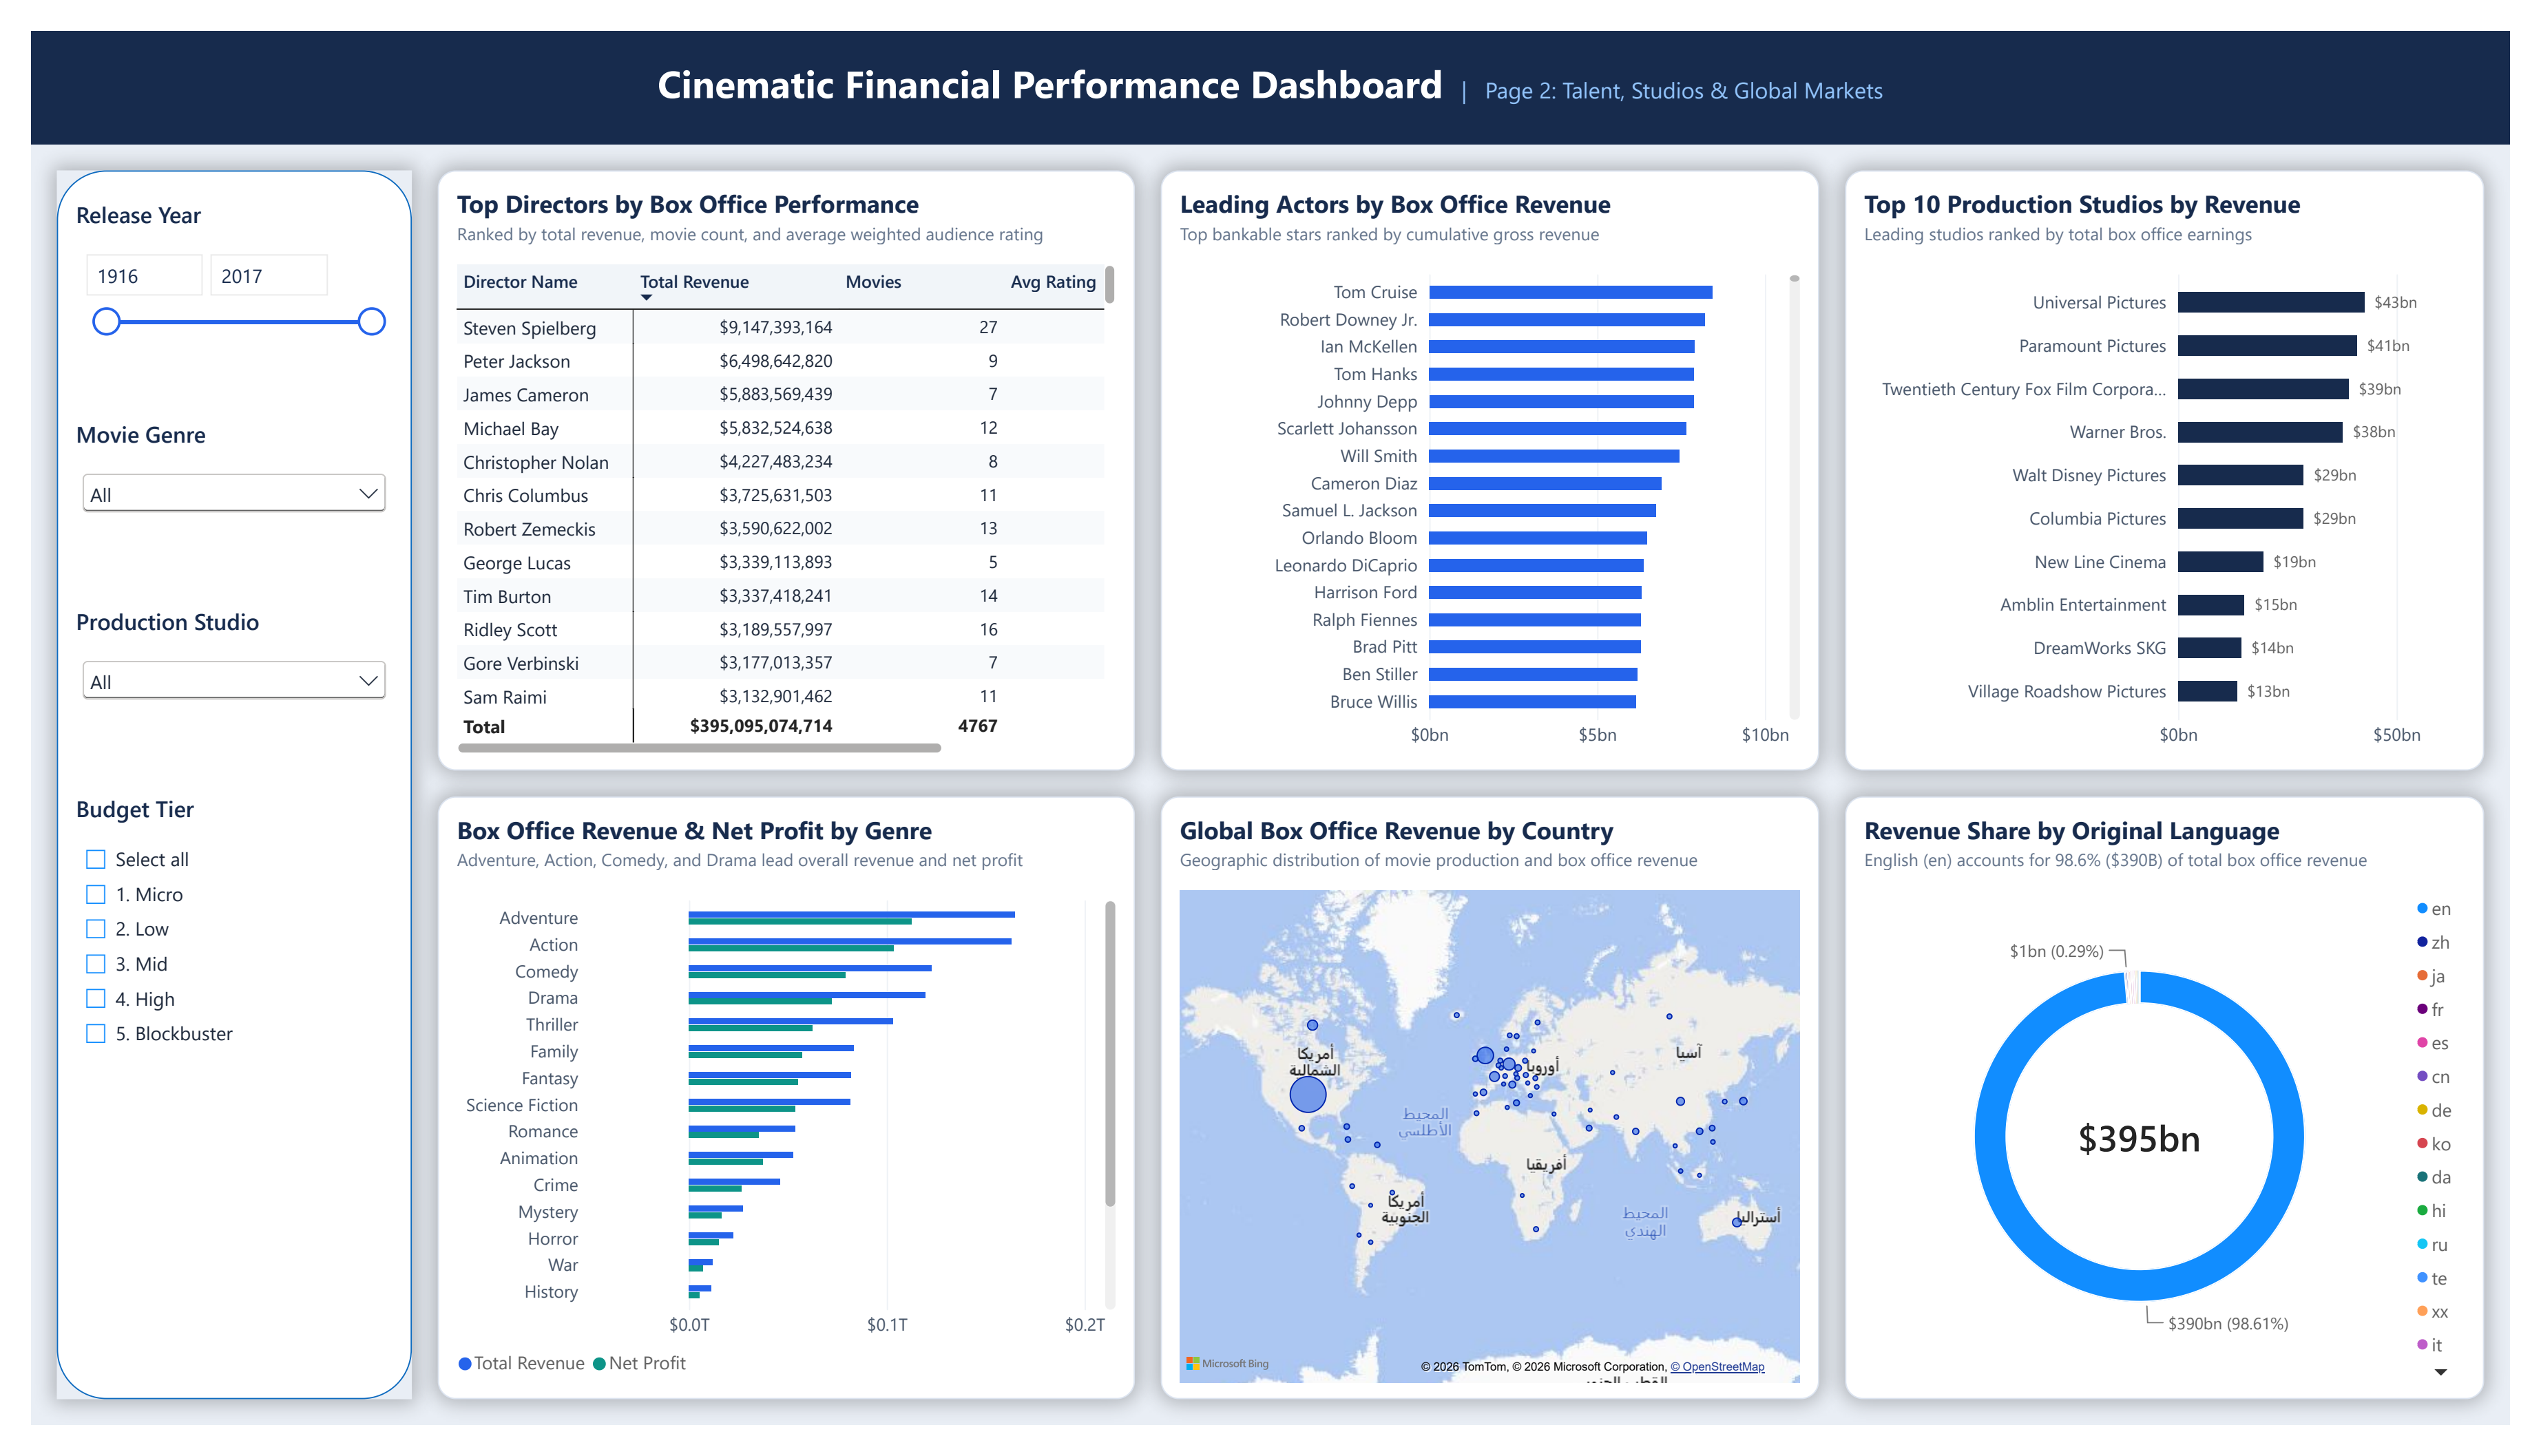

What the dashboard file says about the page in this screenshot:
{"tool":"powerbi","page":{"name":"2. Talent, Studios & Global Markets","canvas":[1920,1080],"ordinal":1},"visuals":[{"type":"shape","box":[0,0,1920,88],"z":0},{"type":"shape","box":[20,108,275,952],"z":1000},{"type":"textbox","box":[20,6,1880,80],"z":2000},{"type":"pivotTable","title":"Top Directors by Box Office Performance","fields":{"Rows":["movie_crew.member_name"],"Values":["_Measures.Total Revenue","_Measures.Total Movies","Avg(clean_movies.weighted_rating)"]},"box":[315,108,540,465],"z":3000},{"type":"clusteredBarChart","title":"Leading Actors by Box Office Revenue","fields":{"Category":["movie_cast.actor_name"],"Y":["_Measures.Total Revenue"]},"box":[875,108,510,465],"z":4000},{"type":"clusteredBarChart","title":"Top 10 Production Studios by Revenue","fields":{"Category":["movie_companies.company_name"],"Y":["_Measures.Total Revenue"]},"box":[1405,108,495,465],"z":5000},{"type":"clusteredBarChart","title":"Box Office Revenue & Net Profit by Genre","fields":{"Category":["movie_genres.genre_name"],"Y":["_Measures.Total Revenue","_Measures.Net Profit"]},"box":[315,593,540,467],"z":6000},{"type":"map","title":"Global Box Office Revenue by Country","fields":{"Category":["movie_countries.country_name"],"Size":["_Measures.Total Revenue"]},"box":[875,593,510,467],"z":7000},{"type":"donutChart","title":"Revenue Share by Original Language","fields":{"Category":["clean_movies.original_language"],"Y":["_Measures.Total Revenue"]},"box":[1405,593,495,467],"z":8000},{"type":"slicer","title":"Budget Tier","fields":{"Values":["clean_movies.Budget Tier"]},"box":[35,590,245,290],"z":9000},{"type":"slicer","title":"Production Studio","fields":{"Values":["movie_companies.company_name"]},"box":[35,445,245,120],"z":10000},{"type":"slicer","title":"Movie Genre","fields":{"Values":["movie_genres.genre_name"]},"box":[35,300,245,120],"z":11000},{"type":"slicer","title":"Release Year","fields":{"Values":["clean_movies.release_year"]},"box":[35,130,245,145],"z":12000}]}

Visuals, with their boxes in screenshot pixels (x1, y1, x2, y2), scaled from the page's 1920x1080 canvas onto the 2541x1456 screenshot:
shape: [left=0, top=0, right=2540, bottom=118]
shape: [left=26, top=146, right=390, bottom=1429]
textbox: [left=26, top=8, right=2515, bottom=116]
"Top Directors by Box Office Performance" pivotTable: [left=417, top=146, right=1131, bottom=772]
"Leading Actors by Box Office Revenue" clusteredBarChart: [left=1158, top=146, right=1833, bottom=772]
"Top 10 Production Studios by Revenue" clusteredBarChart: [left=1859, top=146, right=2515, bottom=772]
"Box Office Revenue & Net Profit by Genre" clusteredBarChart: [left=417, top=799, right=1131, bottom=1429]
"Global Box Office Revenue by Country" map: [left=1158, top=799, right=1833, bottom=1429]
"Revenue Share by Original Language" donutChart: [left=1859, top=799, right=2515, bottom=1429]
"Budget Tier" slicer: [left=46, top=795, right=370, bottom=1186]
"Production Studio" slicer: [left=46, top=600, right=370, bottom=761]
"Movie Genre" slicer: [left=46, top=405, right=370, bottom=566]
"Release Year" slicer: [left=46, top=176, right=370, bottom=371]
